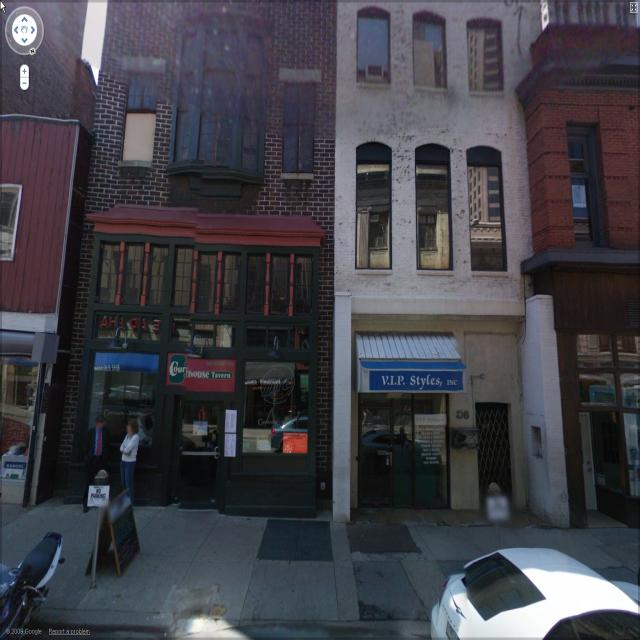b_1: (65, 8, 337, 514), (337, 11, 535, 502), (545, 6, 637, 524), (0, 0, 74, 482)
